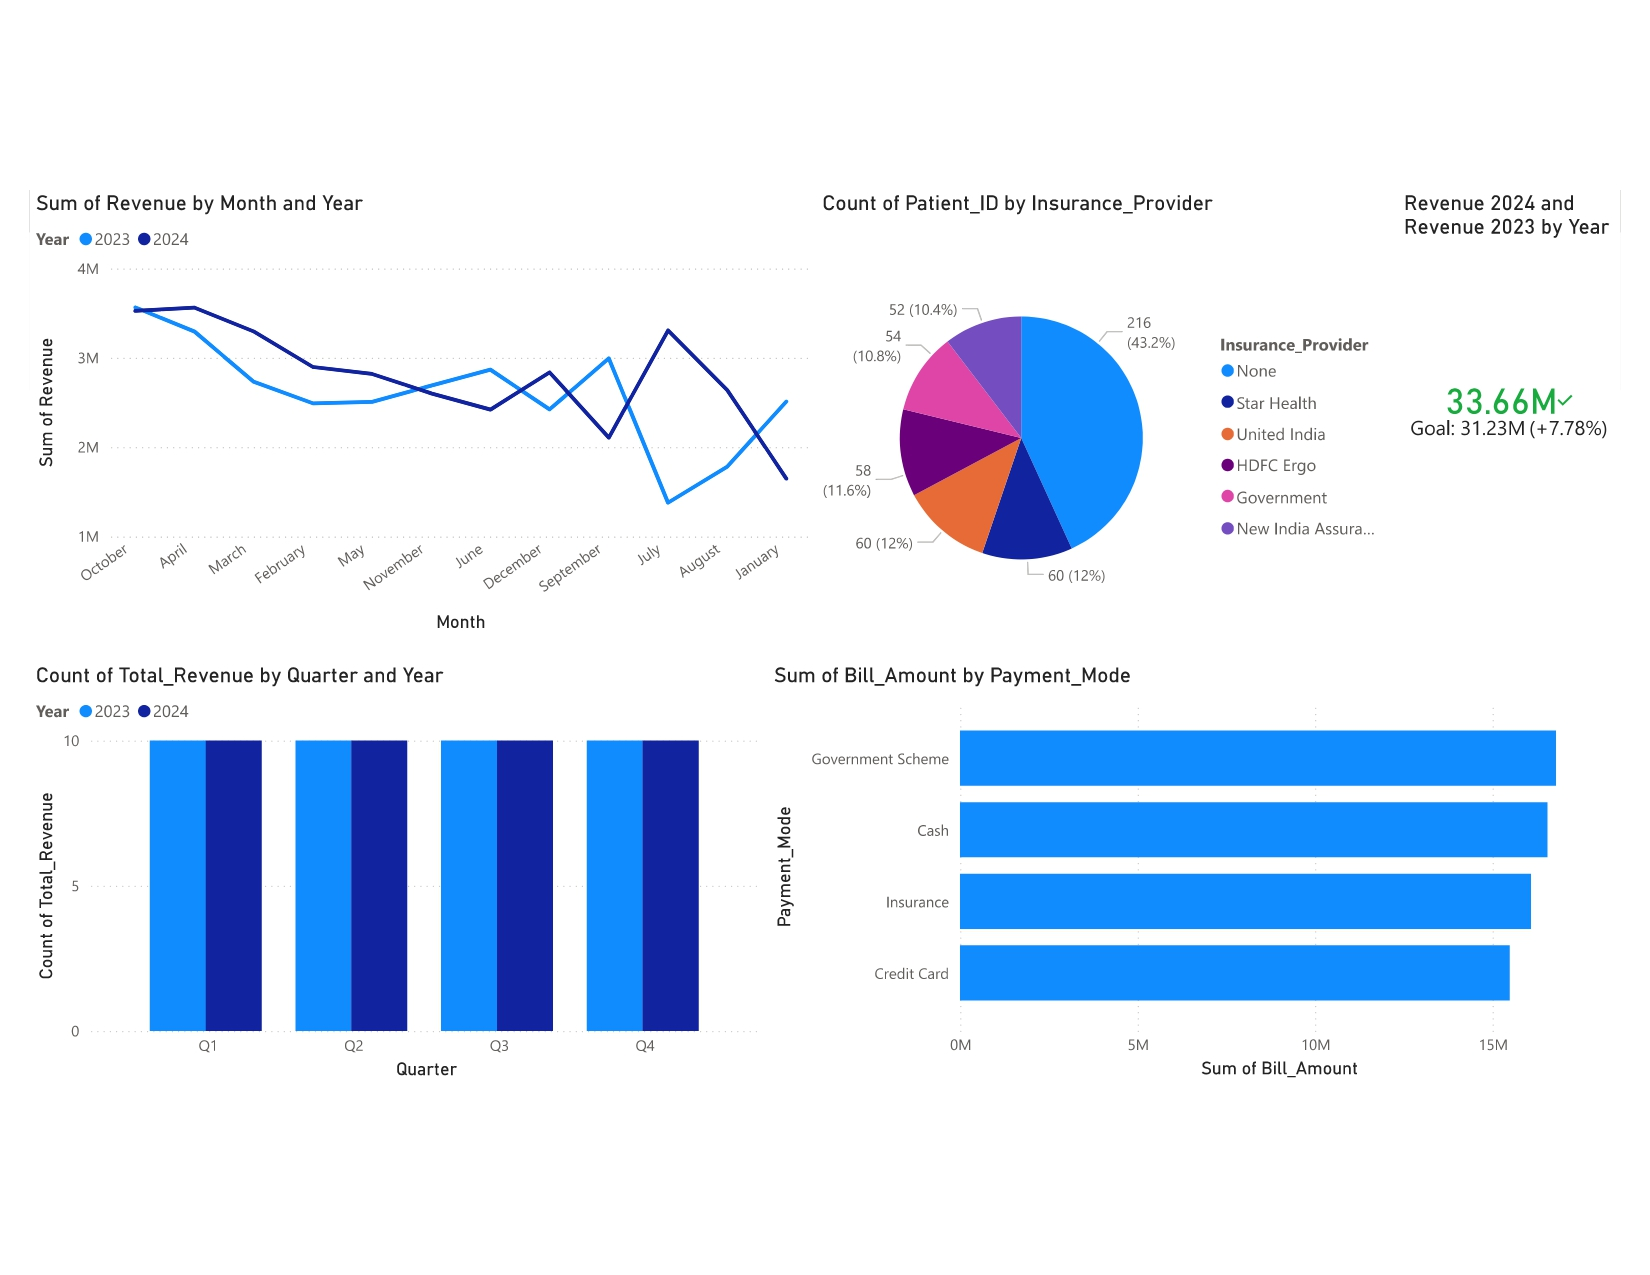

The dashboard page shown, as its layout file describes it:
{"tool":"powerbi","page":{"name":"Page 4","canvas":[1280,720],"ordinal":3},"visuals":[{"type":"lineChart","fields":{"Category":["Monthly_Trends.Month"],"Y":["Sum(Monthly_Trends.Revenue)"],"Series":["Monthly_Trends.Year"]},"box":[0,0,632.6,359.5],"z":0},{"type":"clusteredColumnChart","fields":{"Category":["Patient_Data.Quarter"],"Series":["Patient_Data.Year"],"Y":["CountNonNull(Dept_Summary.Total_Revenue)"]},"box":[0,380.1,594.2,340.3],"z":1000},{"type":"pieChart","fields":{"Category":["Patient_Data.Insurance_Provider"],"Y":["CountNonNull(Patient_Data.Patient_ID)"]},"box":[632.6,0,467.9,380.1],"z":2000},{"type":"kpi","fields":{"Indicator":["Age_Analysis.Revenue 2024"],"Goal":["Age_Analysis.Revenue 2023"],"TrendLine":["Monthly_Trends.Year"]},"box":[1100.5,0,179.8,322.5],"z":3000},{"type":"clusteredBarChart","fields":{"Category":["Patient_Data.Payment_Mode"],"Y":["Sum(Patient_Data.Bill_Amount)"]},"box":[594.2,380.1,686.1,340.3],"z":4000}]}

Visuals, with their boxes on the page's 1280x720 design canvas (x1, y1, x2, y2). These are canvas units, not pixel positions in the 1650x1275 screenshot, which may show the page scaled, cropped or inside an application window:
lineChart - Monthly_Trends.Month x Sum(Monthly_Trends.Revenue): crop(0, 0, 633, 360)
clusteredColumnChart - Patient_Data.Quarter x Patient_Data.Year: crop(0, 380, 594, 720)
pieChart - Patient_Data.Insurance_Provider x CountNonNull(Patient_Data.Patient_ID): crop(633, 0, 1100, 380)
kpi - Age_Analysis.Revenue 2024 x Age_Analysis.Revenue 2023: crop(1100, 0, 1280, 322)
clusteredBarChart - Patient_Data.Payment_Mode x Sum(Patient_Data.Bill_Amount): crop(594, 380, 1280, 720)
